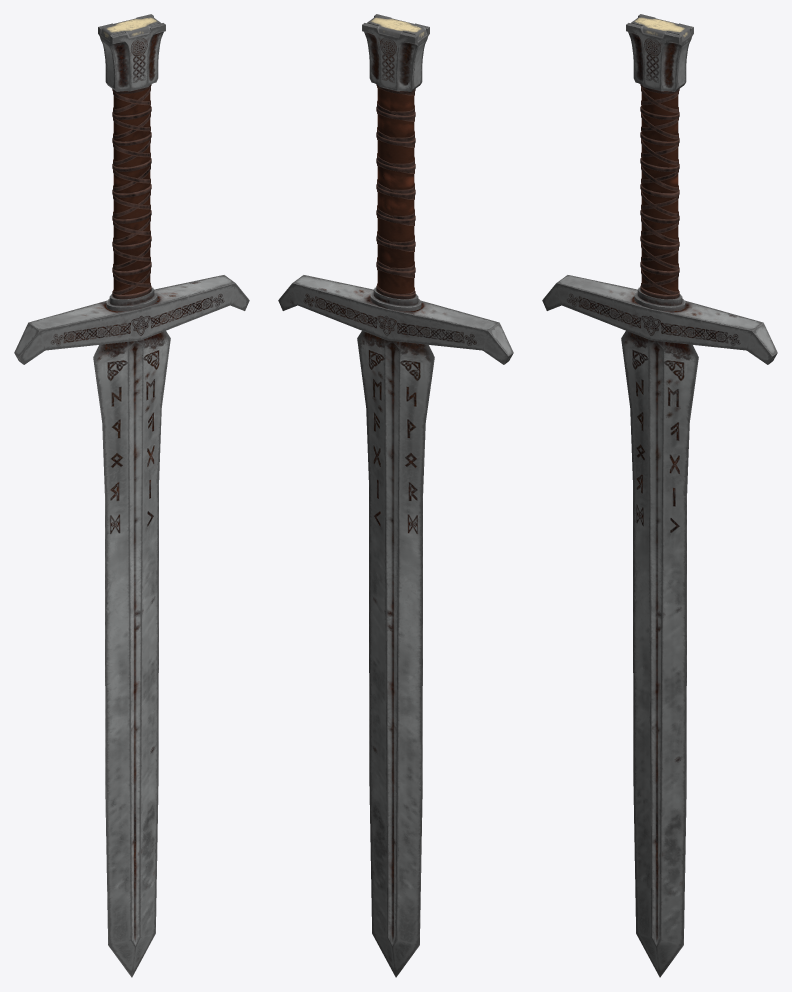
File: runic_sword.glb
3 views of the same model, side by side, from view 1: azimuth 30°, elevation 25°; view 2: azimuth 150°, elevation 25°; view 3: azimuth 330°, elevation 25° (orthographic).
Parts seen in each view (by area): view 1: Blade_Low, SwordPart1_Low, HandlePart1_Low, HandlePart3_Low, RopePart3_Low, RopePart2_Low, RopePart1_Low, HandlePart4_Low, HandlePart2_Low; view 2: Blade_Low, SwordPart1_Low, HandlePart1_Low, HandlePart3_Low, RopePart3_Low, RopePart2_Low, RopePart1_Low, HandlePart4_Low, HandlePart2_Low; view 3: Blade_Low, SwordPart1_Low, HandlePart1_Low, HandlePart3_Low, RopePart3_Low, RopePart2_Low, RopePart1_Low, HandlePart4_Low, HandlePart2_Low.
Boxes of the visible parts, x1,y1,x2,y2 form: Blade_Low: [93, 331, 170, 977]; SwordPart1_Low: [14, 275, 249, 364]; HandlePart1_Low: [113, 88, 150, 294]; HandlePart3_Low: [98, 14, 165, 91]; RopePart3_Low: [112, 84, 151, 299]; RopePart2_Low: [113, 92, 150, 287]; RopePart1_Low: [113, 87, 150, 294]; HandlePart4_Low: [100, 16, 160, 41]; HandlePart2_Low: [106, 287, 157, 311]; Blade_Low: [357, 331, 434, 977]; SwordPart1_Low: [278, 275, 513, 364]; HandlePart1_Low: [377, 88, 414, 293]; HandlePart3_Low: [362, 14, 429, 91]; RopePart3_Low: [376, 84, 415, 299]; RopePart2_Low: [377, 92, 414, 292]; RopePart1_Low: [377, 87, 414, 294]; HandlePart4_Low: [367, 16, 427, 41]; HandlePart2_Low: [370, 287, 421, 311]; Blade_Low: [621, 331, 698, 977]; SwordPart1_Low: [542, 275, 777, 364]; HandlePart1_Low: [641, 88, 678, 294]; HandlePart3_Low: [626, 14, 693, 91]; RopePart3_Low: [640, 84, 679, 299]; RopePart2_Low: [641, 87, 678, 294]; RopePart1_Low: [641, 92, 678, 287]; HandlePart4_Low: [631, 16, 691, 41]; HandlePart2_Low: [634, 287, 685, 311].
Bounding box in the file's own units: 1.43 × 5.66 × 0.1972.
1 material, 1 textured.
